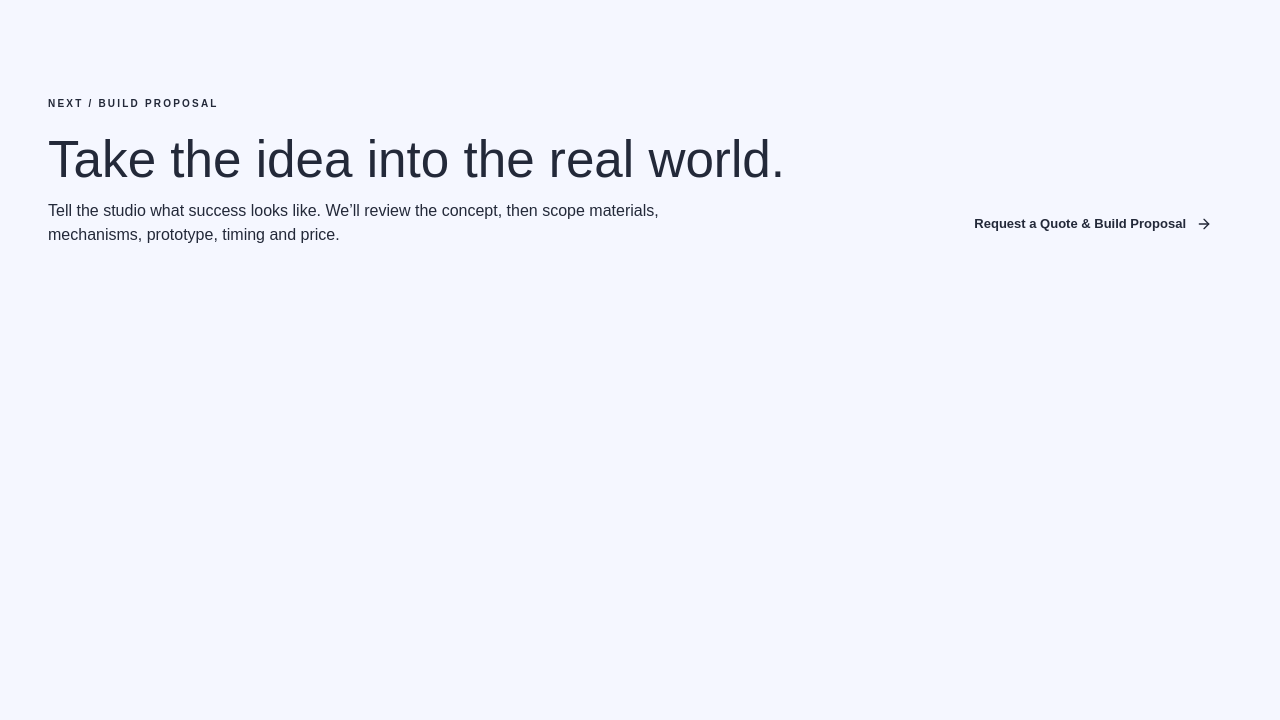
Test case: Proposal request handoff › does not submit without a valid work email
Step 1. Click the button "Request a Quote & Build Proposal" → coordinates (1093, 224), box 954,201 -> 1232,247
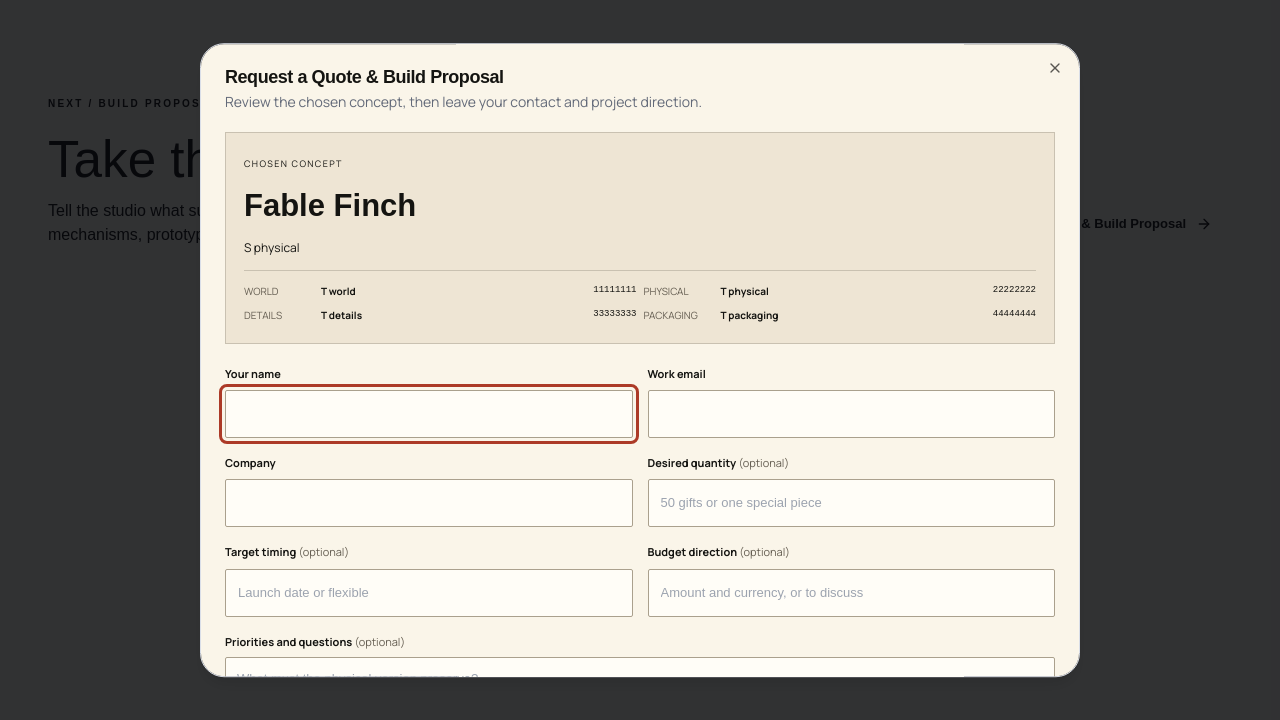
Step 2. Type "Ana" into the field labelled "Your name" → coordinates (429, 414), box 225,390 -> 632,438
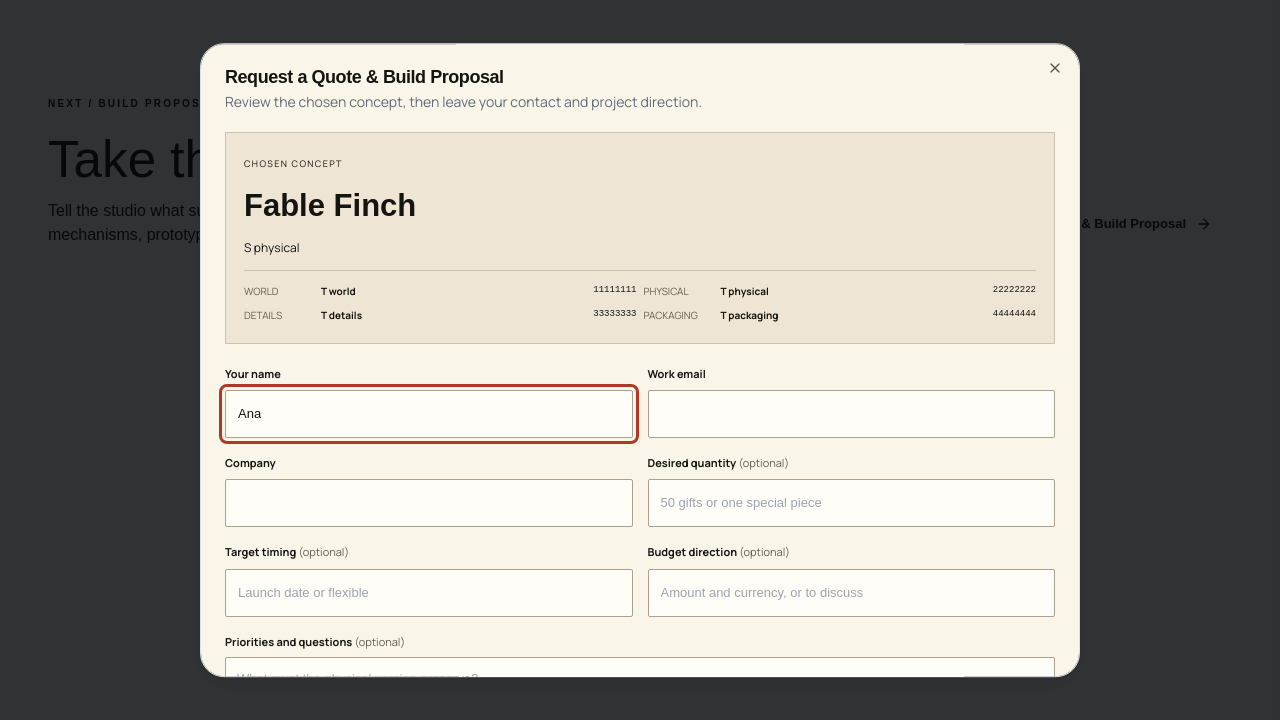
Step 3. Type "ana@example.com" into the field labelled "Work email" → coordinates (851, 414), box 648,390 -> 1055,438
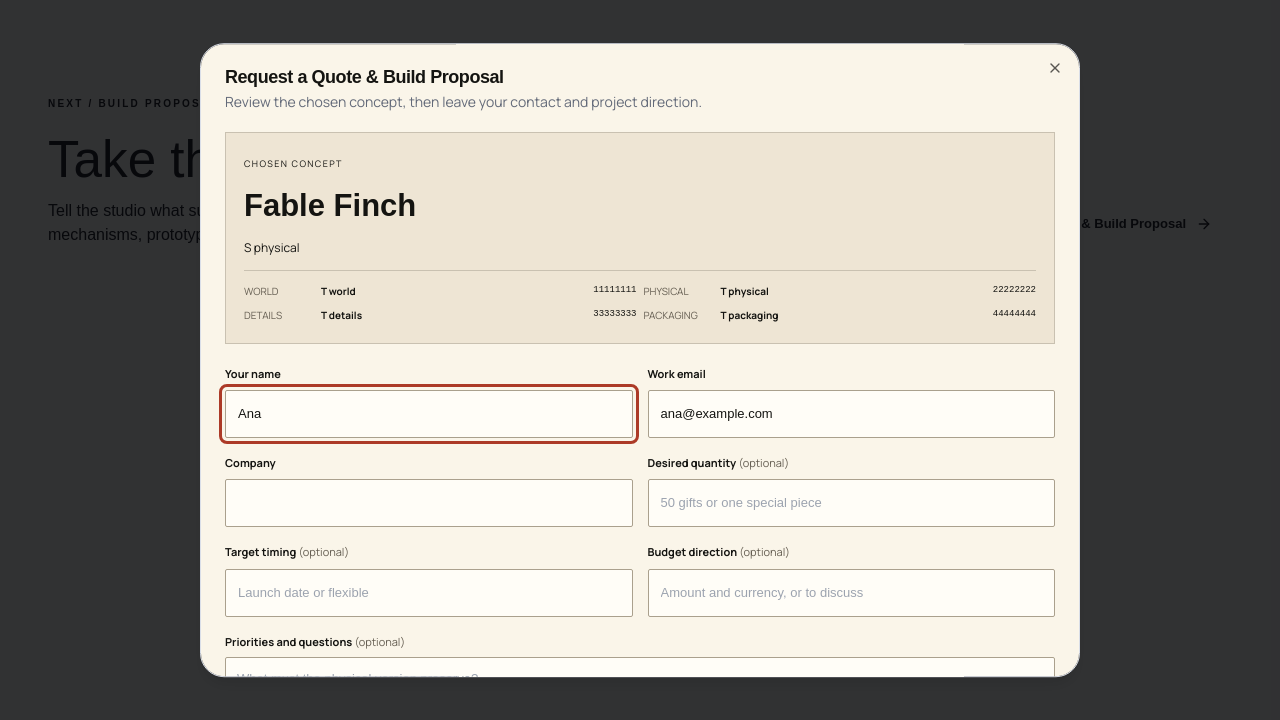
Step 4. Type "Acme" into the field labelled "Company" → coordinates (429, 504), box 225,480 -> 632,528
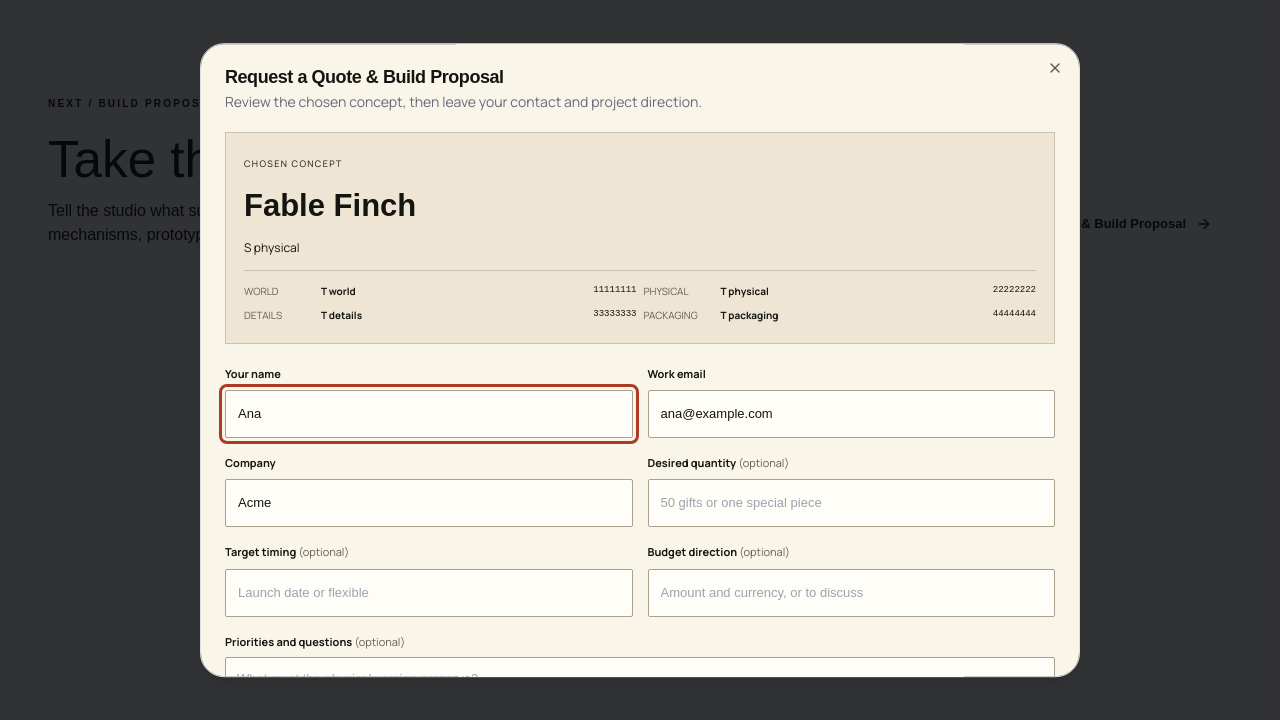
Step 5. Replace the text in the field labelled "Work email" with "nope" → coordinates (851, 414), box 648,390 -> 1055,438
(page scrolled)
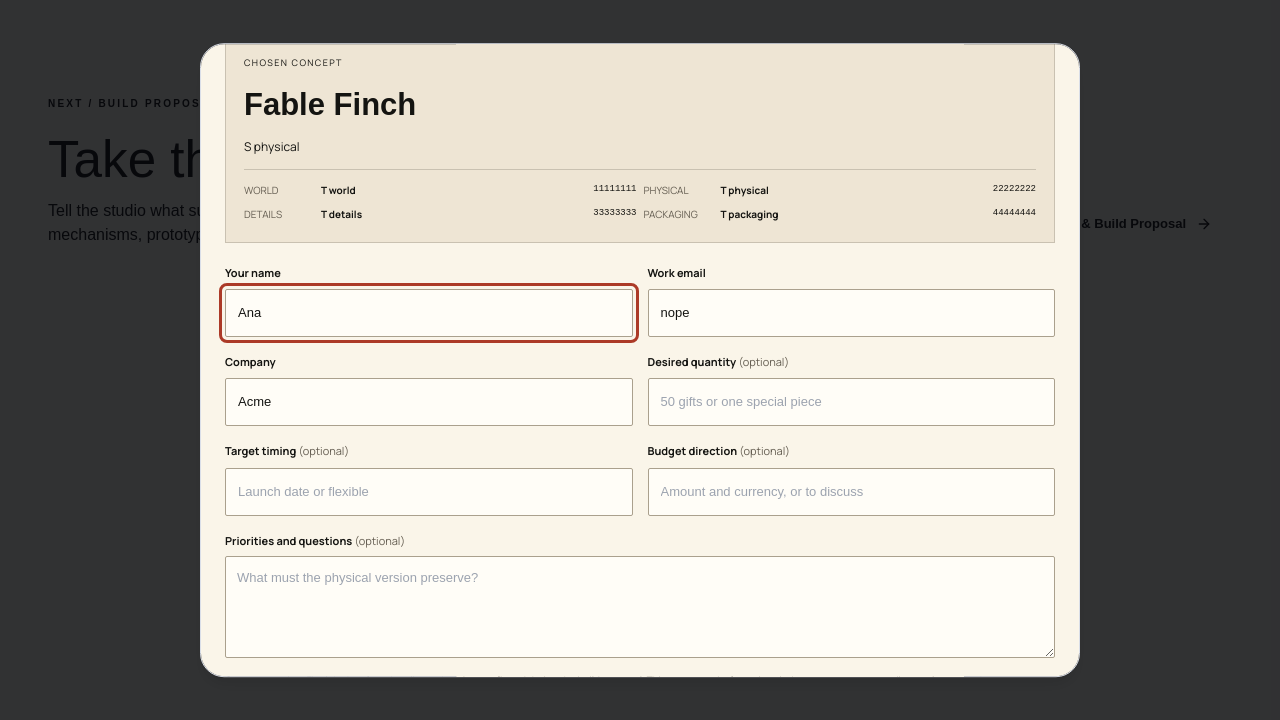
Step 6. Submit the form named "Company"
(page scrolled)
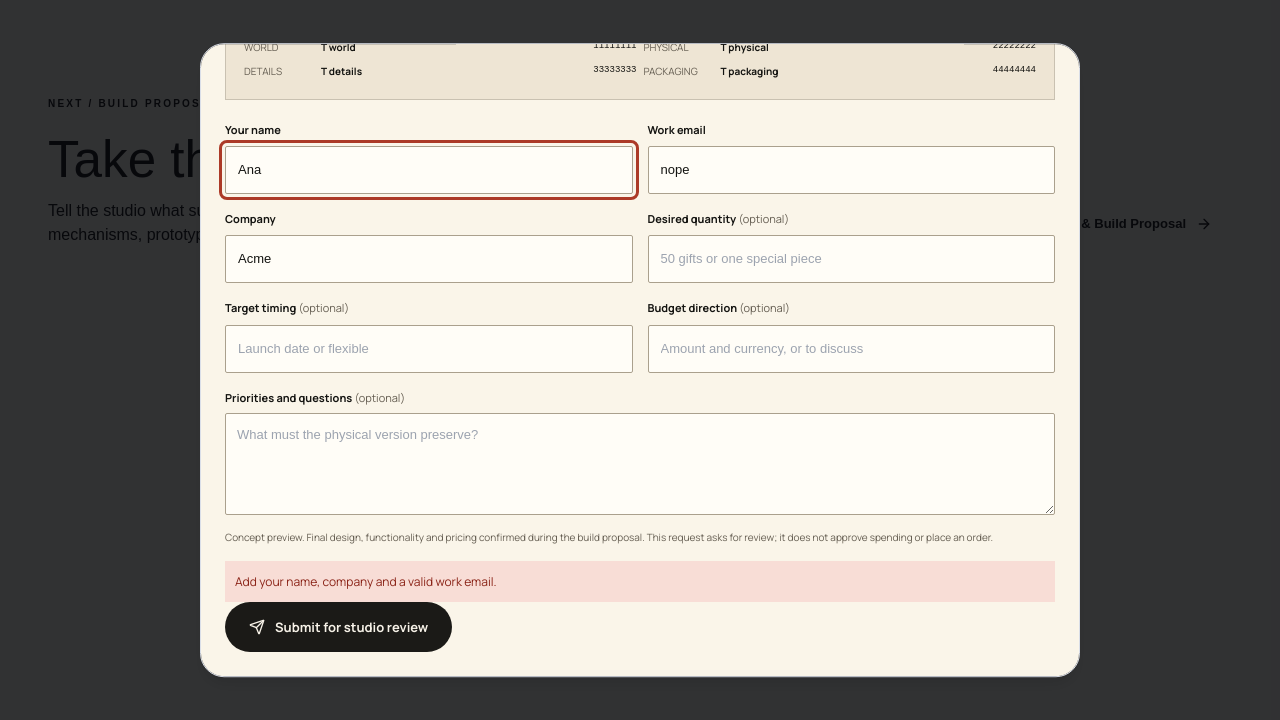
Expected: the text "Add your name, company and a valid work email." is shown, 225,561 -> 1055,602
